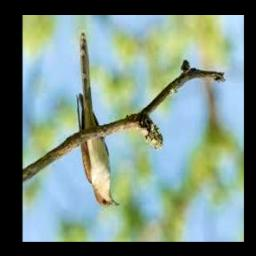Cuckoo: (76, 33, 121, 207)
